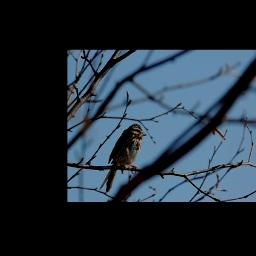Sparrow: (98, 122, 146, 193)
